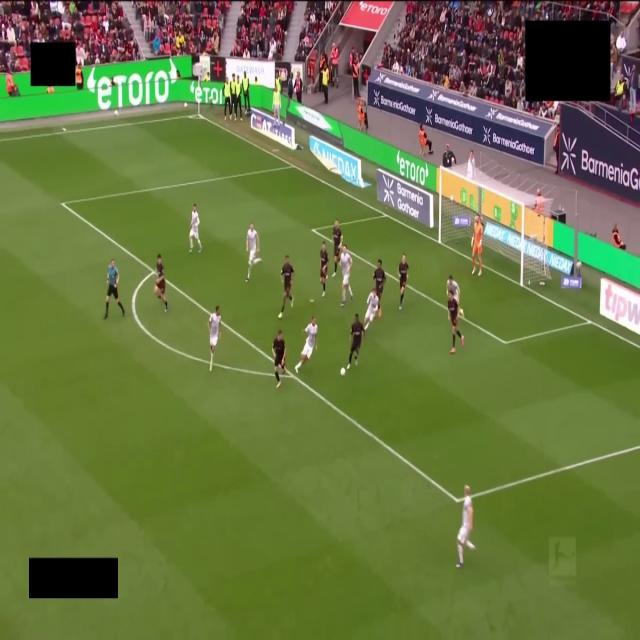ball: (340, 368, 345, 375)
player: (457, 486, 475, 567), (295, 317, 317, 373), (278, 256, 294, 318), (347, 314, 364, 368), (448, 293, 463, 354), (208, 306, 221, 371), (272, 330, 286, 388), (246, 224, 260, 281), (340, 245, 353, 306), (154, 254, 167, 311), (373, 260, 386, 317), (472, 216, 483, 276), (398, 255, 409, 310), (365, 287, 379, 329), (332, 219, 342, 277), (189, 204, 201, 252), (320, 242, 328, 296), (447, 276, 460, 305)
referee: (104, 259, 124, 319)
